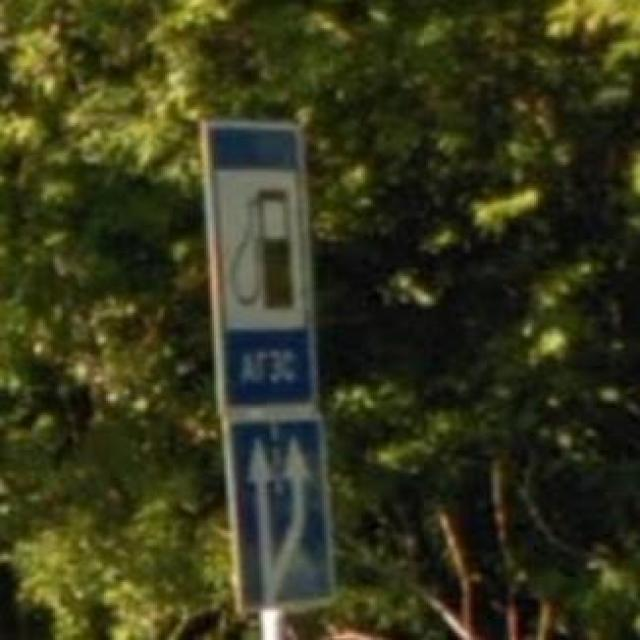traffic_sign: (196, 116, 322, 417)
